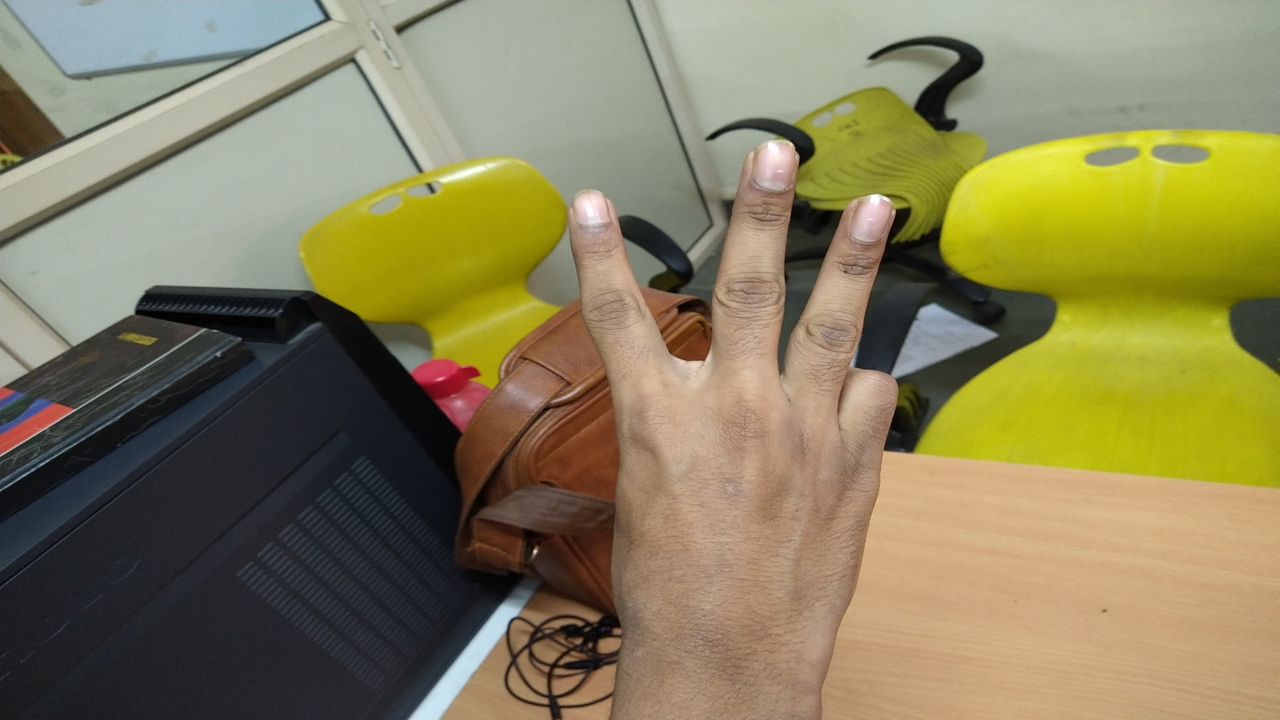fingertip: (838, 182, 906, 248), (744, 130, 804, 194), (562, 178, 622, 240)
